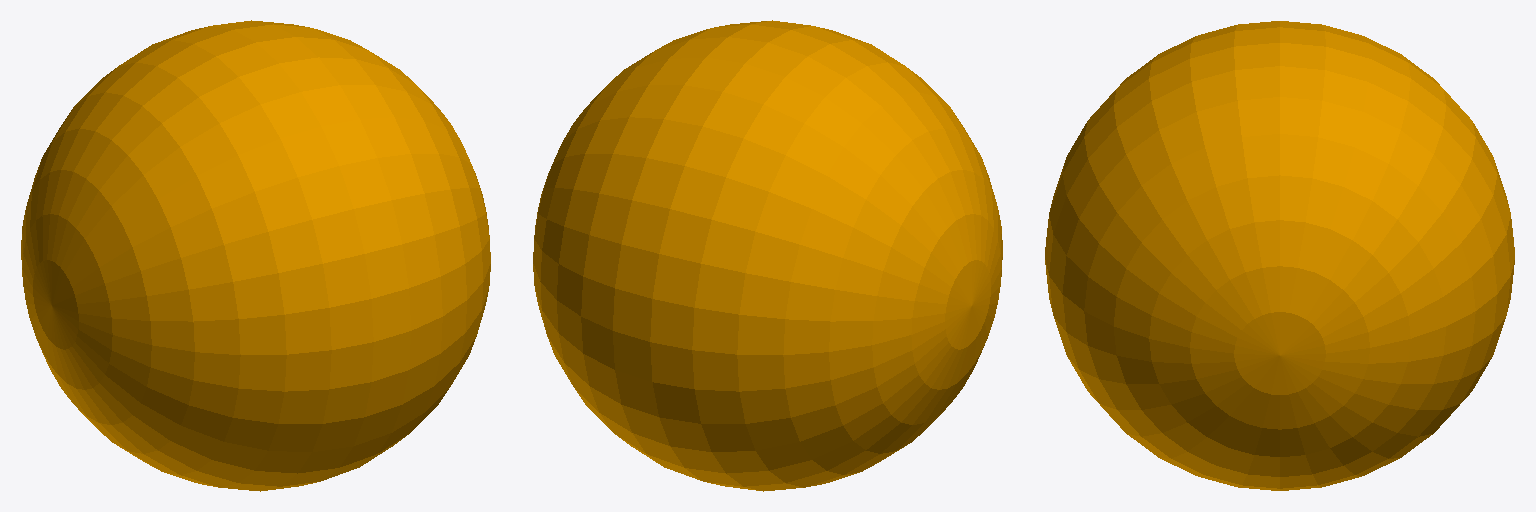
The robot description file, URDF, robot "panda":
<?xml version='1.0' encoding='utf-8'?>
<robot name="panda">

    <link name="link0">
      <inertial>
        <origin xyz="0 0 0.05" rpy="0 0 0" />
        <mass value="4" />
        <inertia ixx="0.4" iyy="0.4" izz="0.4" ixy="0" ixz="0" iyz="0" />
      </inertial>
      <visual>
        <geometry>
          <mesh filename="../../../../examples/models/panda/meshes/visual/link0.obj"/>
        </geometry>
      </visual>
    </link>
    <link name="link1">
      <inertial>
        <origin xyz="0 0 -0.07" rpy="0 -0 0" />
        <mass value="3" />
        <inertia ixx="0.3" iyy="0.3" izz="0.3" ixy="0" ixz="0" iyz="0" />
      </inertial>
      <visual>
        <geometry>
          <mesh filename="../../../../examples/models/panda/meshes/visual/link1.obj"/>
        </geometry>
      </visual>
    </link>
    <link name="link2">
      <inertial>
        <origin xyz="0 -0.1 0" rpy="0 -0 0" />
        <mass value="3" />
        <inertia ixx="0.3" iyy="0.3" izz="0.3" ixy="0" ixz="0" iyz="0" />
      </inertial>
      <visual>
        <geometry>
          <mesh filename="../../../../examples/models/panda/meshes/visual/link2.obj"/>
        </geometry>
      </visual>
    </link>
    <link name="link3">
      <inertial>
        <origin xyz="0.04 0 -0.05" rpy="0 -0 0" />
        <mass value="2" />
        <inertia ixx="0.2" iyy="0.2" izz="0.2" ixy="0" ixz="0" iyz="0" />
      </inertial>
      <visual>
        <geometry>
          <mesh filename="../../../../examples/models/panda/meshes/visual/link3.obj"/>
        </geometry>
      </visual>
    </link>
    <link name="link4">
      <inertial>
        <origin xyz="-0.04 0.05 0" rpy="0 -0 0" />
        <mass value="2" />
        <inertia ixx="0.2" iyy="0.2" izz="0.2" ixy="0" ixz="0" iyz="0" />
      </inertial>
      <visual>
        <geometry>
          <mesh filename="../../../../examples/models/panda/meshes/visual/link4.obj"/>
        </geometry>
      </visual>   
    </link>
    <link name="link5">
      <inertial>
        <origin xyz="0 0 -0.15" rpy="0 -0 0" />
        <mass value="2" />
        <inertia ixx="0.2" iyy="0.2" izz="0.2" ixy="0" ixz="0" iyz="0" />
      </inertial>
      <visual>
        <geometry>
          <mesh filename="../../../../examples/models/panda/meshes/visual/link5.obj"/>
        </geometry>
      </visual>
    </link>
    <link name="link6">
      <inertial>
        <origin xyz="0.06 0 0" rpy="0 -0 0" />
        <mass value="1.5" />
        <inertia ixx="0.1" iyy="0.1" izz="0.1" ixy="0" ixz="0" iyz="0" />
      </inertial>
      <visual>
        <geometry>
          <mesh filename="../../../../examples/models/panda/meshes/visual/link6.obj"/>
        </geometry>
      </visual>
    </link>
    <link name="link7">
      <inertial>
        <origin xyz="0 0 0.17" rpy="0 -0 0" />
        <mass value="1.8" />
        <inertia ixx="0.09" iyy="0.05" izz="0.07" ixy="0" ixz="0" iyz="0" />
      </inertial>
      <visual>
        <geometry>
          <mesh filename="../../../../examples/models/panda/meshes/visual/link7.obj"/>
        </geometry>
      </visual>
    </link>
    <link name="end-effector">
      <inertial>
        <origin xyz="0 0 0" rpy="0 -0 0" />
        <mass value="0.2" />
        <inertia ixx="0.01" iyy="0.01" izz="0.01" ixy="0" ixz="0" iyz="0" />
      </inertial>
      <visual>
        <geometry>
          <sphere radius="0.04" />
        </geometry>
      </visual>
      <collision>
        <geometry>
          <sphere radius="0.04" />
        </geometry>
      </collision>
    </link>
  
    <joint name="joint1" type="revolute">
      <safety_controller k_position="100.0" k_velocity="40.0" soft_lower_limit="-2.8973" soft_upper_limit="2.8973"/>
      <origin rpy="0 0 0" xyz="0 0 0.333"/>
      <parent link="link0"/>
      <child link="link1"/>
      <axis xyz="0 0 1"/>
      <calibration falling="0.0" />
      <limit effort="87" lower="-2.8973" upper="2.8973" velocity="2.1750"/>
    </joint>
    <joint name="joint2" type="revolute">
      <safety_controller k_position="100.0" k_velocity="40.0" soft_lower_limit="-1.7628" soft_upper_limit="1.7628"/>
      <origin rpy="-1.57079632679 0 0" xyz="0 0 0"/>
      <parent link="link1"/>
      <child link="link2"/>
      <axis xyz="0 0 1"/>
      <calibration falling="-25.0" />
      <limit effort="87" lower="-1.7628" upper="1.7628" velocity="2.1750"/>
    </joint>
    <joint name="joint3" type="revolute">
      <safety_controller k_position="100.0" k_velocity="40.0" soft_lower_limit="-2.8973" soft_upper_limit="2.8973"/>
      <origin rpy="1.57079632679 0 0" xyz="0 -0.316 0"/>
      <parent link="link2"/>
      <child link="link3"/>
      <axis xyz="0 0 1"/>
      <limit effort="87" lower="-2.8973" upper="2.8973" velocity="2.1750"/>
    </joint>
    <joint name="joint4" type="revolute">
      <safety_controller k_position="100.0" k_velocity="40.0" soft_lower_limit="-3.0718" soft_upper_limit="-0.0698"/>
      <origin rpy="1.57079632679 0 0" xyz="0.0825 0 0"/>
      <parent link="link3"/>
      <child link="link4"/>
      <axis xyz="0 0 1"/>
      <calibration falling="-135.0" />
      <limit effort="87" lower="-3.0718" upper="-0.0698" velocity="2.1750"/>
    </joint>
    <joint name="joint5" type="revolute">
      <safety_controller k_position="100.0" k_velocity="40.0" soft_lower_limit="-2.8973" soft_upper_limit="2.8973"/>
      <origin rpy="-1.57079632679 0 0" xyz="-0.0825 0.384 0"/>
      <parent link="link4"/>
      <child link="link5"/>
      <axis xyz="0 0 1"/>
      <calibration falling="0.0" />
      <limit effort="12" lower="-2.8973" upper="2.8973" velocity="2.6100"/>
    </joint>
    <joint name="joint6" type="revolute">
      <safety_controller k_position="100.0" k_velocity="40.0" soft_lower_limit="-0.0175" soft_upper_limit="3.7525"/>
      <origin rpy="1.57079632679 0 0" xyz="0 0 0"/>
      <parent link="link5"/>
      <child link="link6"/>
      <axis xyz="0 0 1"/>
      <calibration falling="105.0" />
      <limit effort="12" lower="-0.0175" upper="3.7525" velocity="2.6100"/>
    </joint>
    <joint name="joint7" type="revolute">
      <safety_controller k_position="100.0" k_velocity="40.0" soft_lower_limit="-2.8973" soft_upper_limit="2.8973"/>
      <origin rpy="1.57079632679 0 0" xyz="0.088 0 0"/>
      <parent link="link6"/>
      <child link="link7"/>
      <axis xyz="0 0 1"/>
      <limit effort="12" lower="-2.8973" upper="2.8973" velocity="2.6100"/>
    </joint>
    <joint name="joint_ee" type="fixed">
      <origin rpy="0 0 0" xyz="0 0 0.15"/>
      <parent link="link7"/>
      <child link="end-effector"/>
    </joint>
</robot>

--- Render facts (derived) ---
Views: 3 orthographic renders of the robot side by side, from view 1: azimuth 30°, elevation 25°; view 2: azimuth 150°, elevation 25°; view 3: azimuth 270°, elevation 25°.
Robot: panda — 9 links, 8 joints (7 revolute, 1 fixed); root link link0; default pose: joints at zero except 1 at the middle of their limits (joint4 = -1.57).
Links seen in each view (by area): view 1: end-effector; view 2: end-effector; view 3: end-effector.
Link boxes in pixels (<box>): end-effector: <box>21,20,490,491</box>; end-effector: <box>533,20,1002,491</box>; end-effector: <box>1045,21,1514,490</box>.
Bounding box of the posed robot: 0.08 × 0.08 × 0.08 m (x, y, z).
Geometry: only primitive shapes (box / cylinder / sphere) drawn; not drawn: 8 mesh visuals (reference in a form the renderer does not follow).